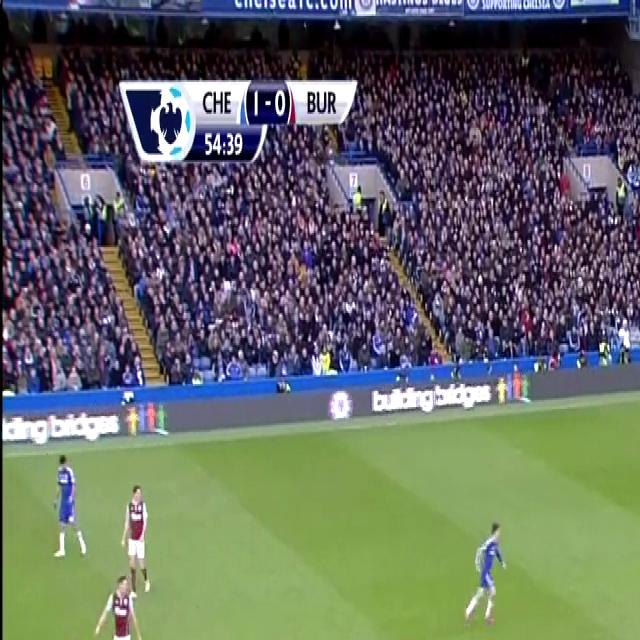soccer-player: (453, 511, 507, 631), (42, 449, 86, 575), (49, 444, 93, 569), (120, 476, 156, 600), (96, 576, 147, 640), (58, 634, 93, 640), (52, 634, 87, 640)
